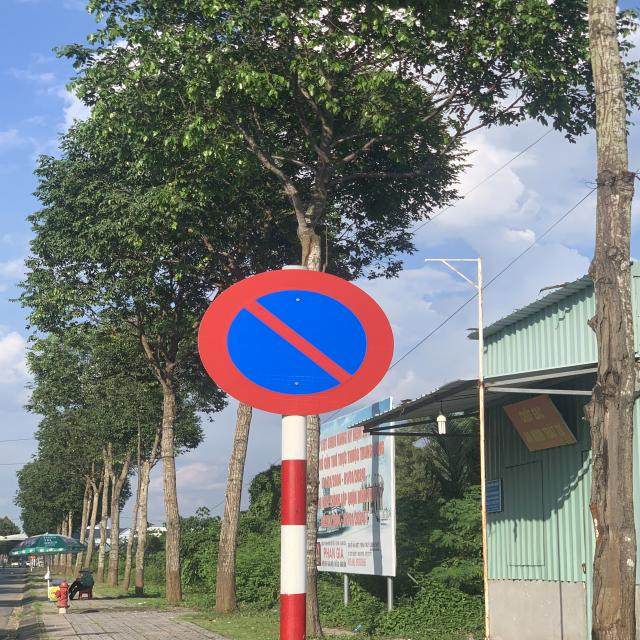Cam_Dau_Xe: (202, 272, 394, 414)
